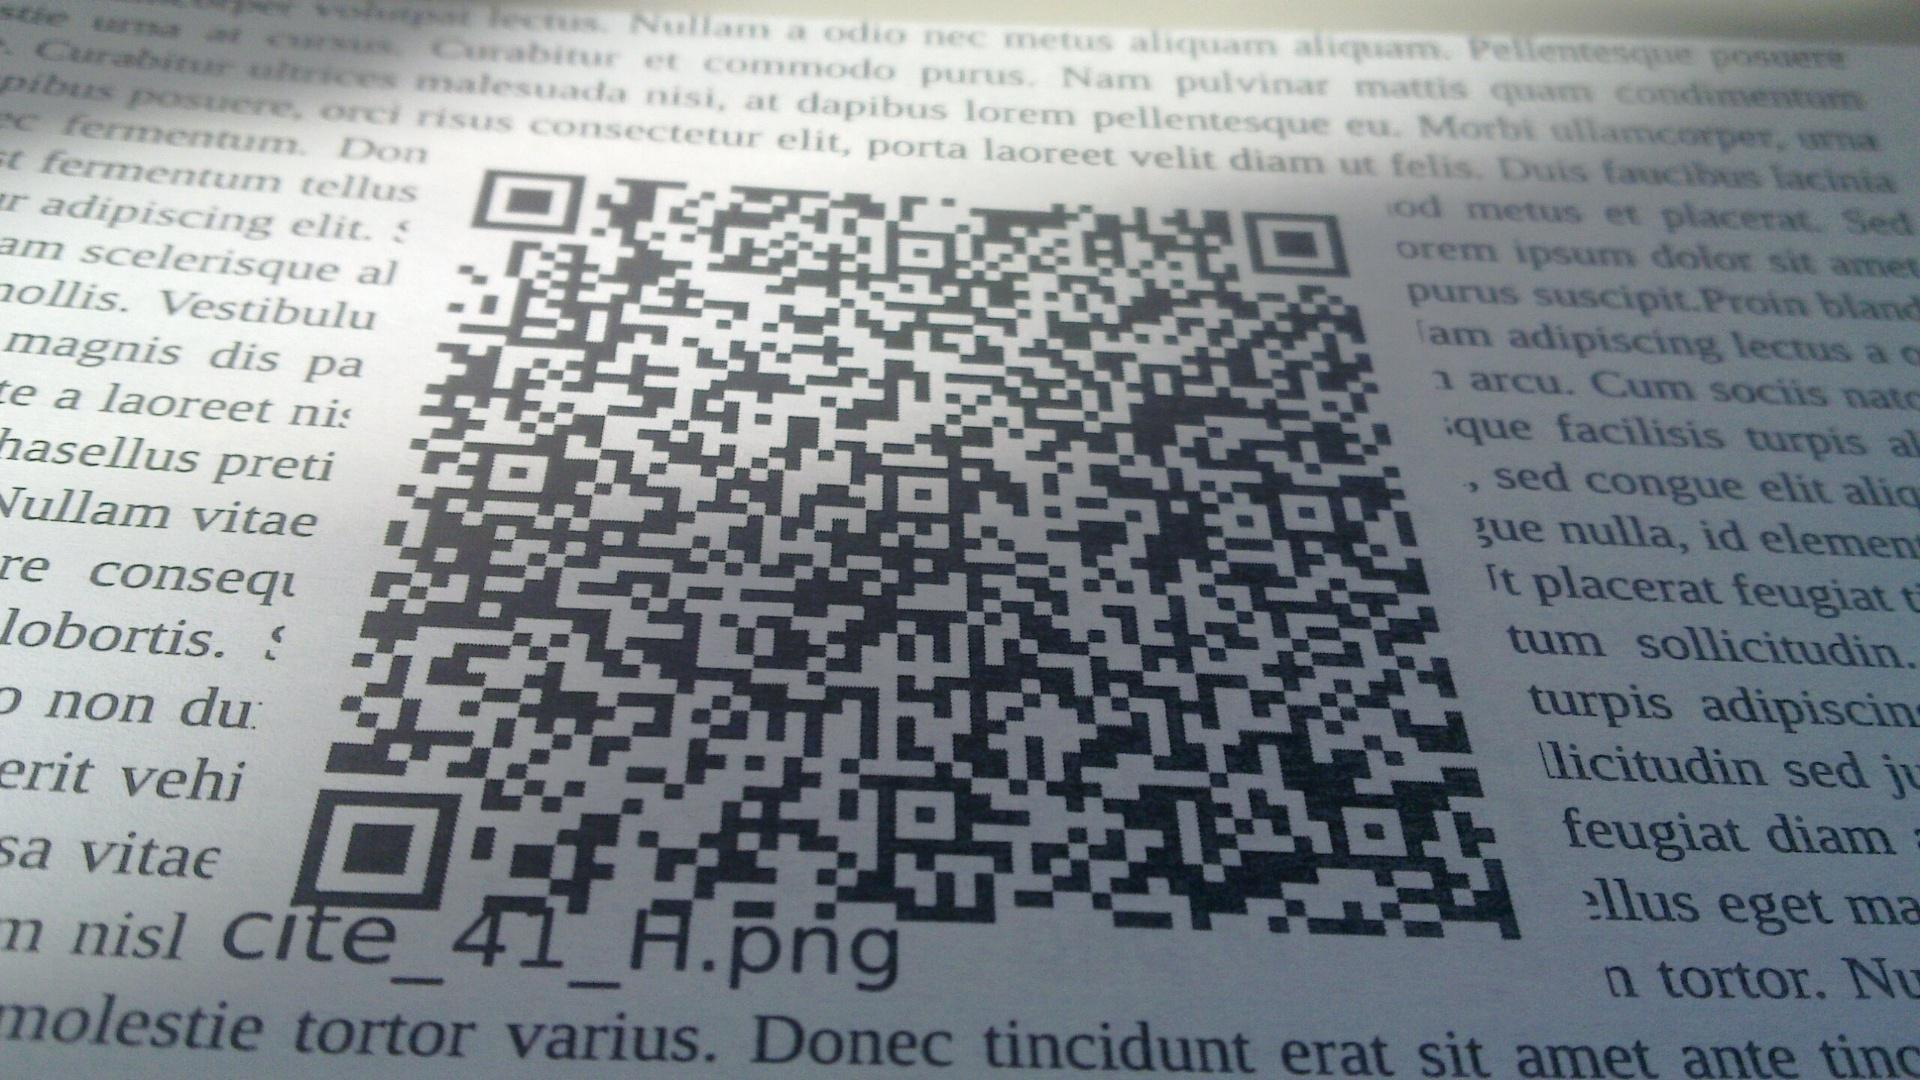Finder pattern: (301, 785, 462, 913), (469, 160, 588, 239), (1237, 204, 1360, 280)
